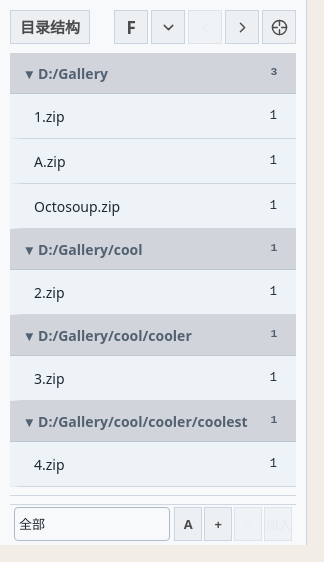
SidebarPanel music interactions › 一键折叠在指针模式下仅保留指针节点
This screenshot has width=324, height=562.
Click the button named "折叠全部含图父级". click: (168, 27)
box: left=151, top=10, right=185, bottom=44
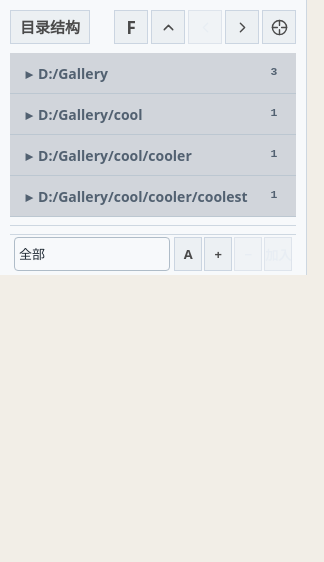
expect the button "1.zip" is gone: met
expect the button "2.zip" is gone: met
expect the button "3.zip" is gone: met
